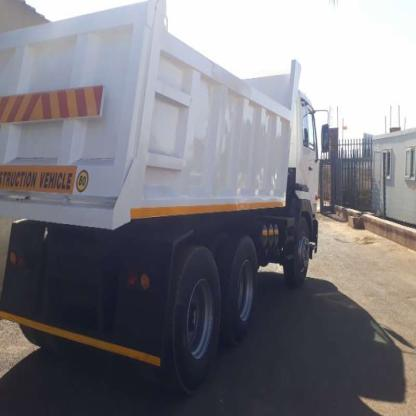dump_truck: (4, 13, 332, 390)
